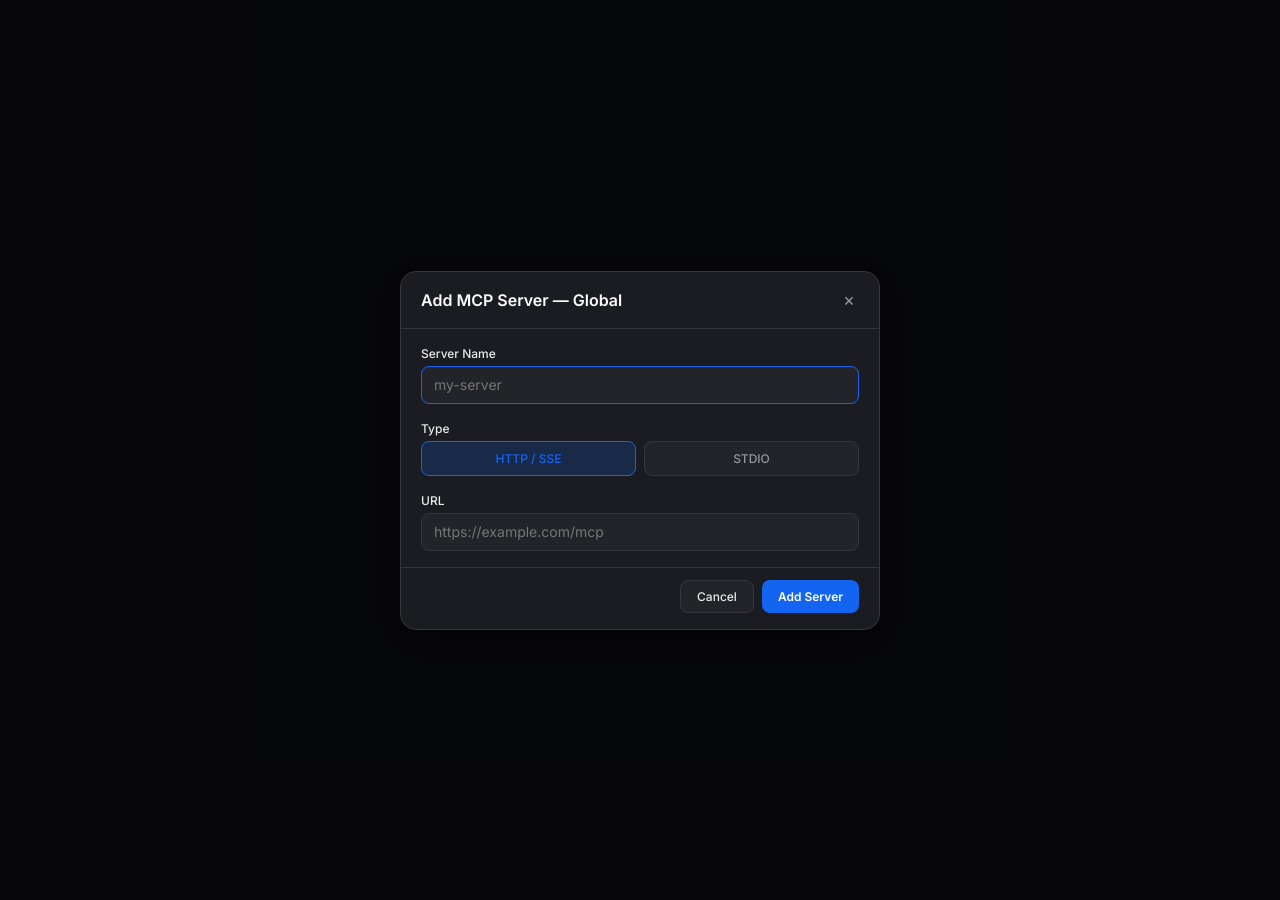
AddServerForm › adds and removes environment variable rows
What coordinates should you click on to do the following:
click the button "STDIO"
I would click on:
 (752, 458)
Its box is [644,440,859,476].
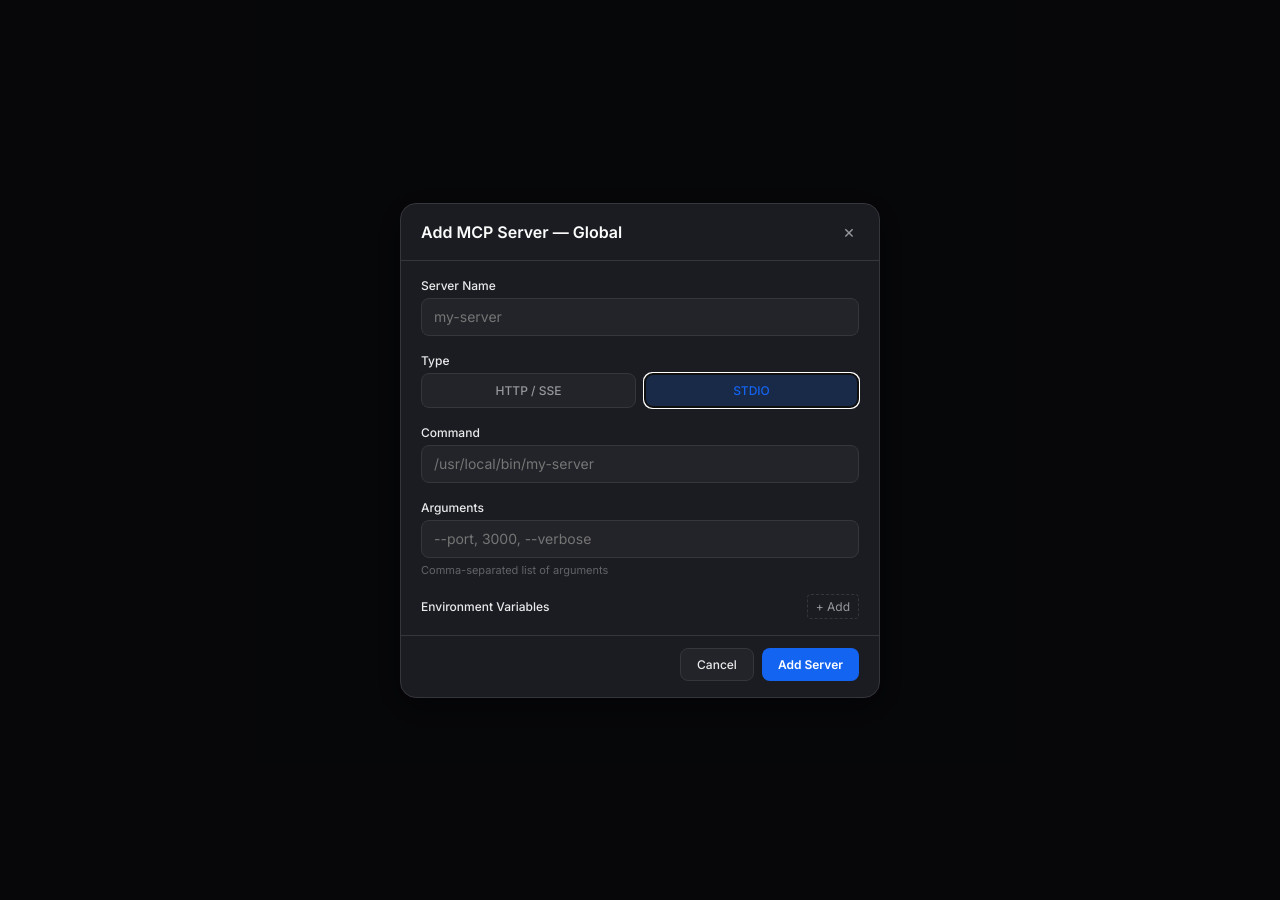
# The env "Add" button is inside the env section
What coordinates should you click on to do the following:
click the button "+ Add"
I would click on:
 (833, 606)
Its box is [807,594,859,618].
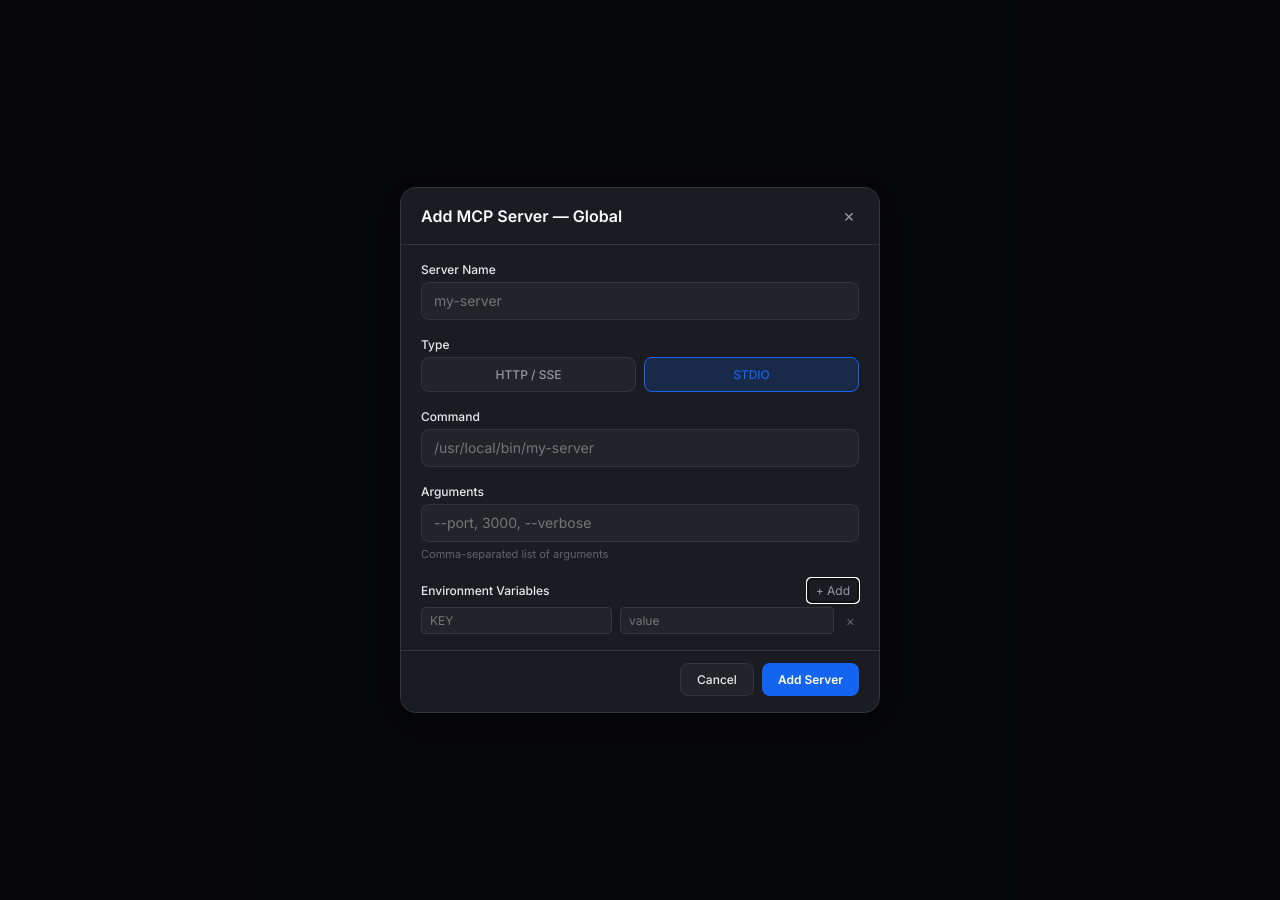
Now the field with placeholder "KEY" is shown, box [421,607,612,634]
Now the field with placeholder "value" is shown, box [620,607,834,634]
# Remove env row
What coordinates should you click on to do the following:
click the button titled "Remove" below "Comma-separated list of arguments"
I would click on:
 (850, 620)
Its box is [842,612,859,630].
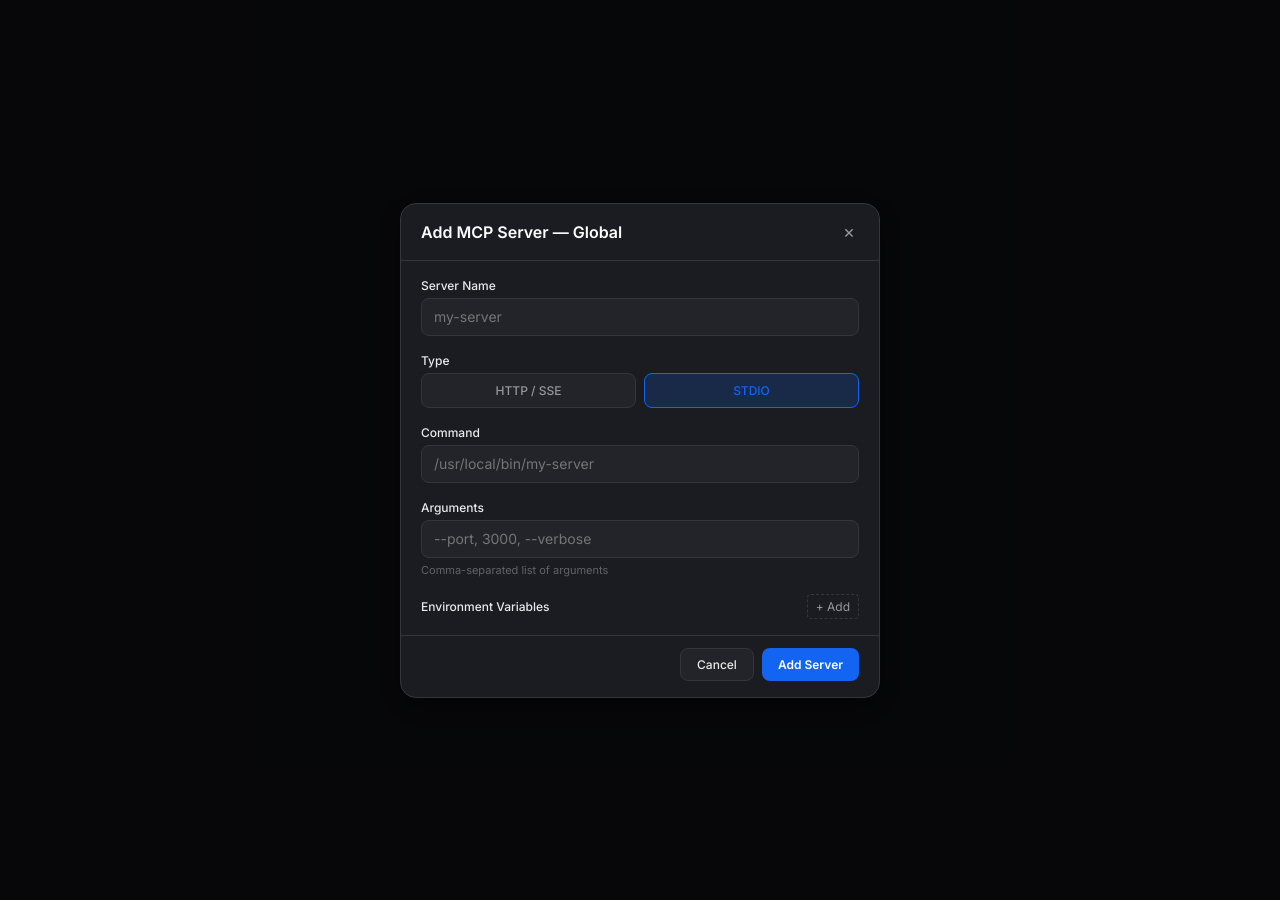
Now the field with placeholder "KEY" is gone
